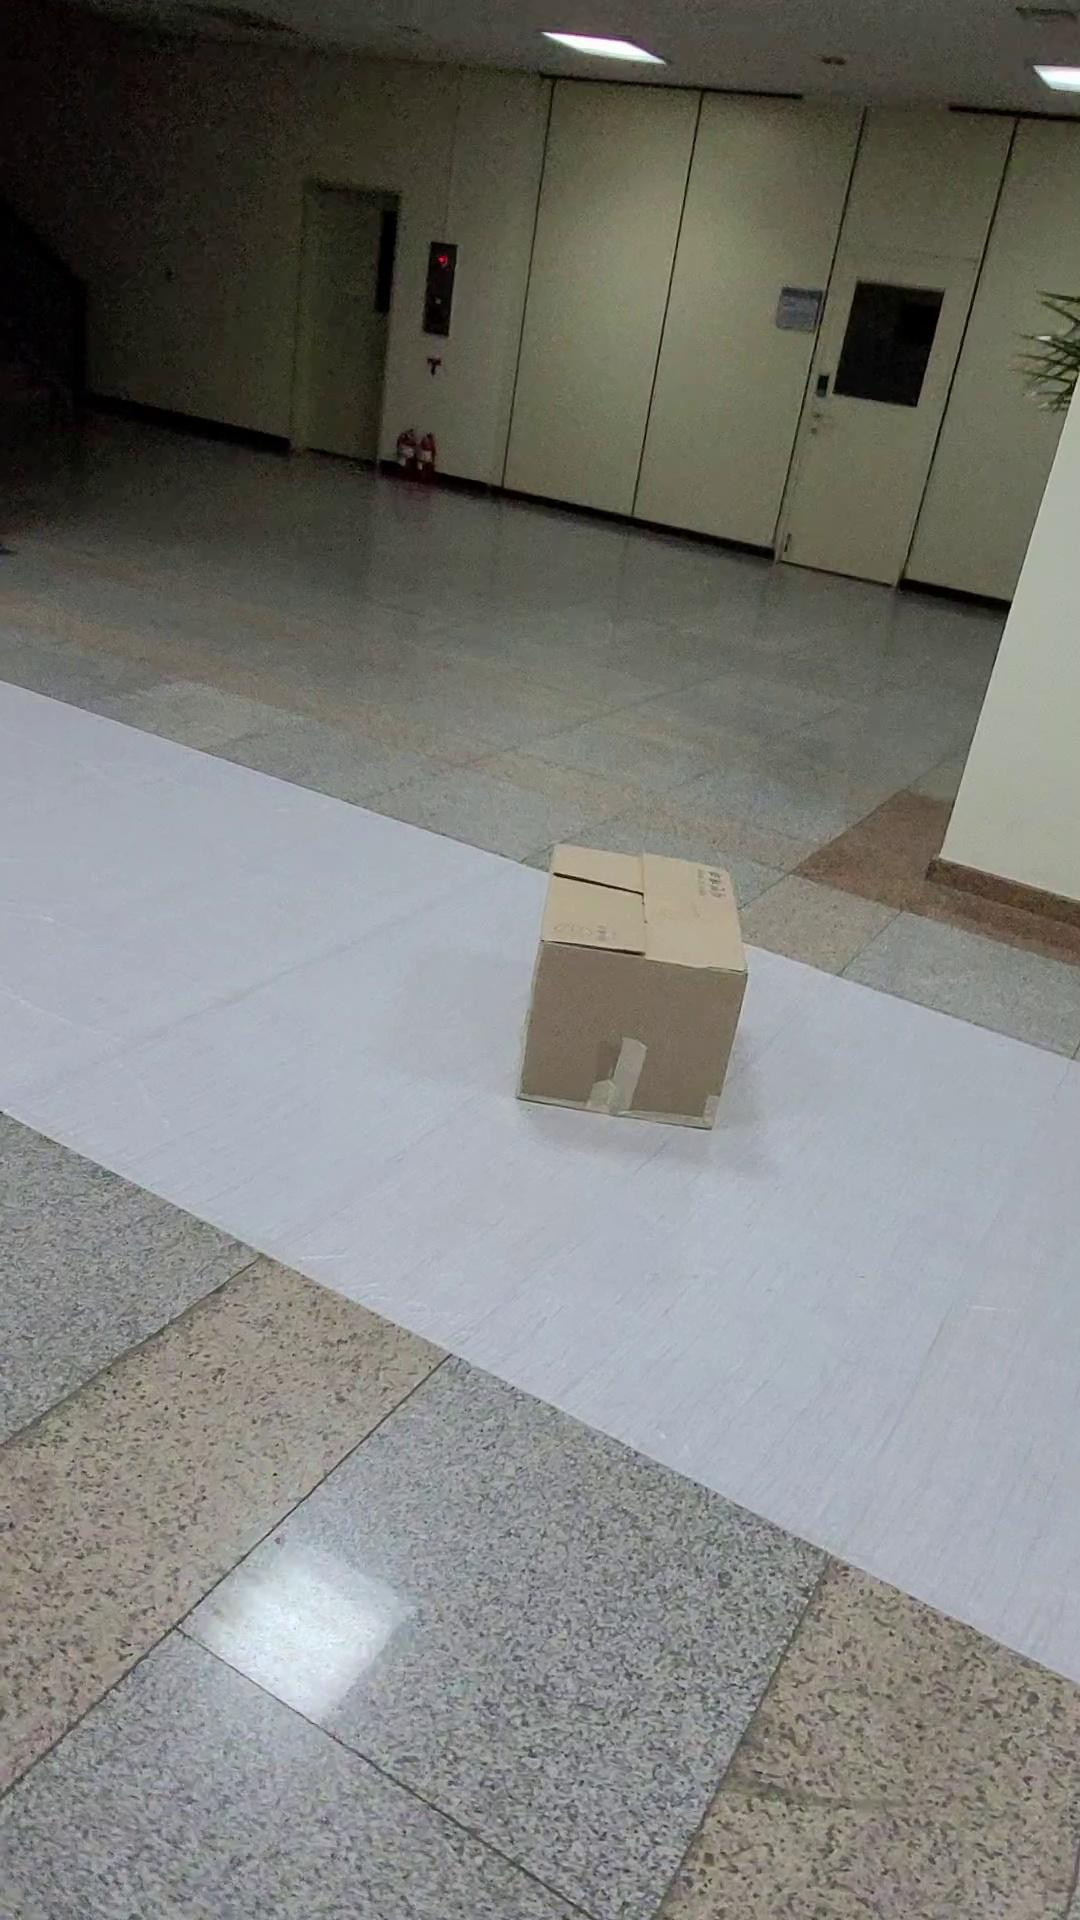Box: (476, 823, 785, 1155)
